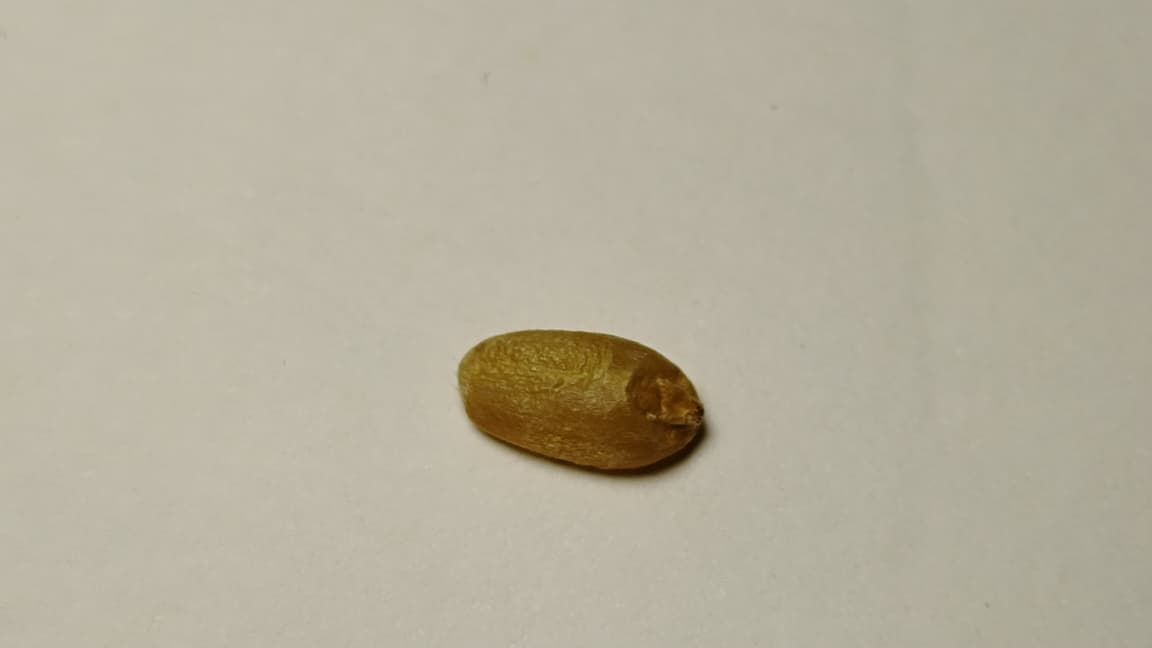healthy: (459, 329, 703, 470)
